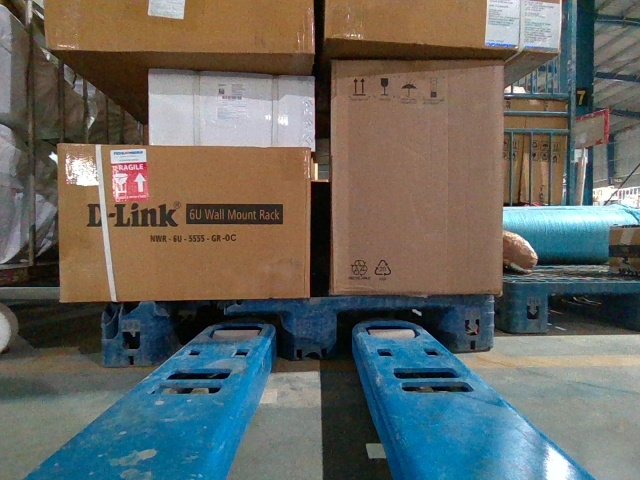block: (101, 302, 159, 367), (285, 294, 337, 360), (452, 292, 491, 355), (512, 282, 548, 333)
front: (103, 293, 493, 367)
hole pallet: (160, 313, 294, 366), (336, 305, 460, 350), (548, 293, 639, 332)
